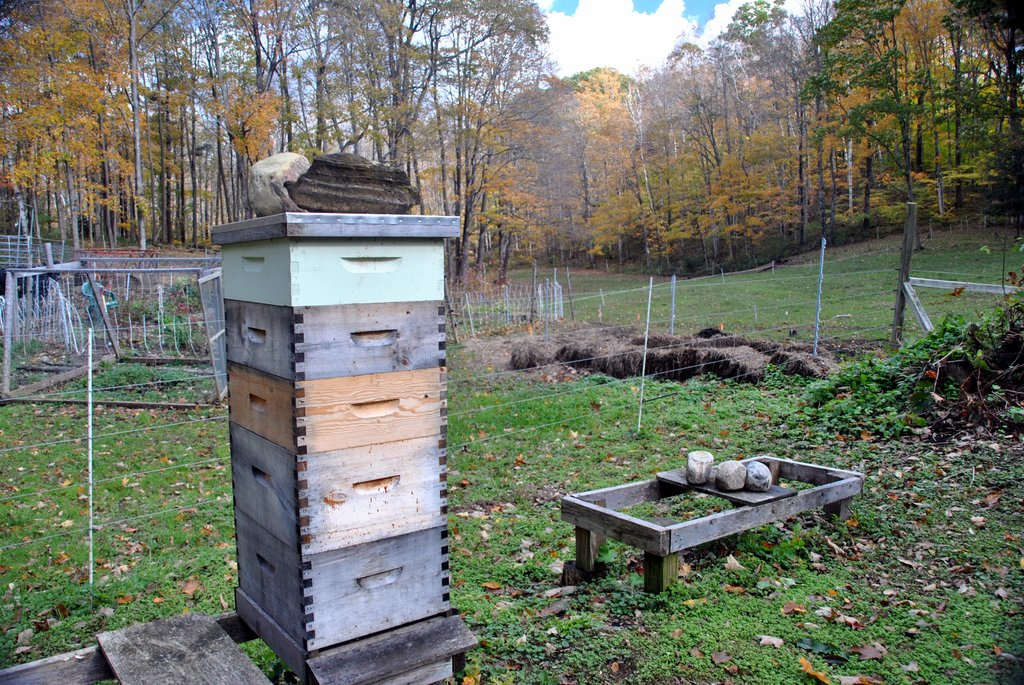cabinet door: (300, 461, 445, 527), (306, 541, 447, 608), (296, 314, 442, 371), (295, 242, 446, 296), (312, 382, 444, 441), (231, 442, 306, 537), (236, 535, 295, 617), (230, 307, 295, 371), (230, 382, 297, 440), (227, 251, 290, 297)
handle: (343, 460, 407, 499), (332, 248, 407, 276), (348, 323, 404, 352), (348, 392, 402, 420), (348, 565, 406, 591), (244, 461, 280, 493), (239, 324, 278, 347), (241, 390, 274, 417), (249, 551, 281, 575), (236, 251, 273, 271)
